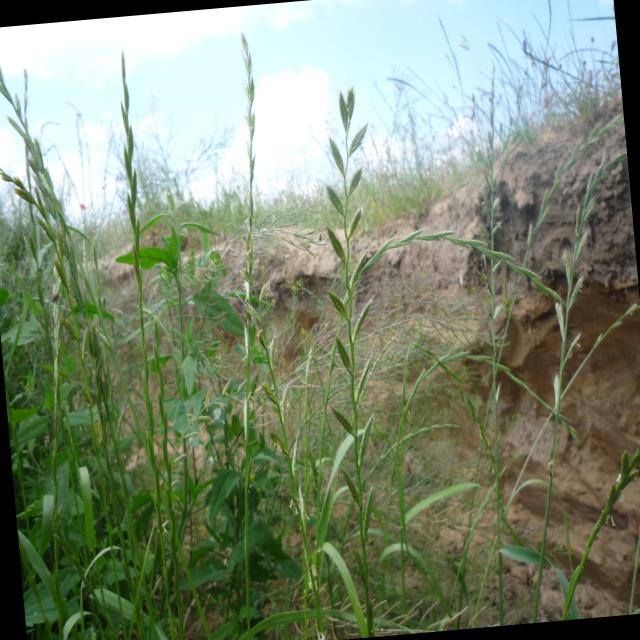Lolium: (0, 20, 109, 414), (201, 40, 293, 437), (312, 87, 398, 508), (319, 222, 572, 336), (452, 67, 531, 421), (105, 56, 167, 487), (526, 176, 628, 436), (585, 423, 640, 527)
